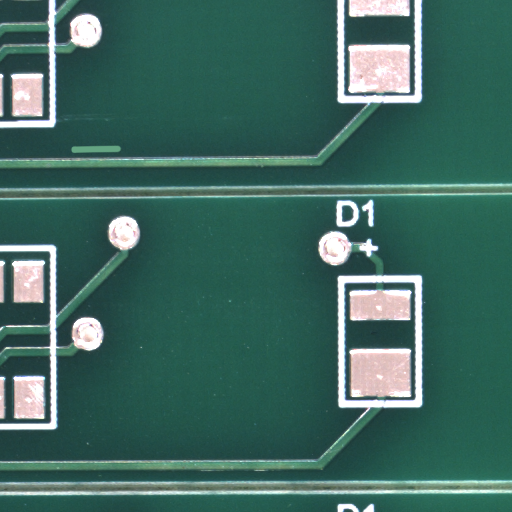Spurious_copper: (94, 148, 145, 160)
